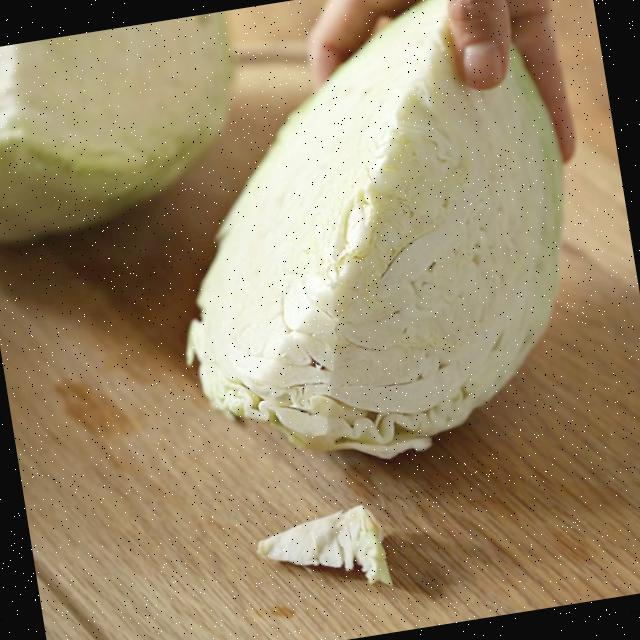cabbage: (137, 0, 624, 486), (0, 10, 260, 250)
